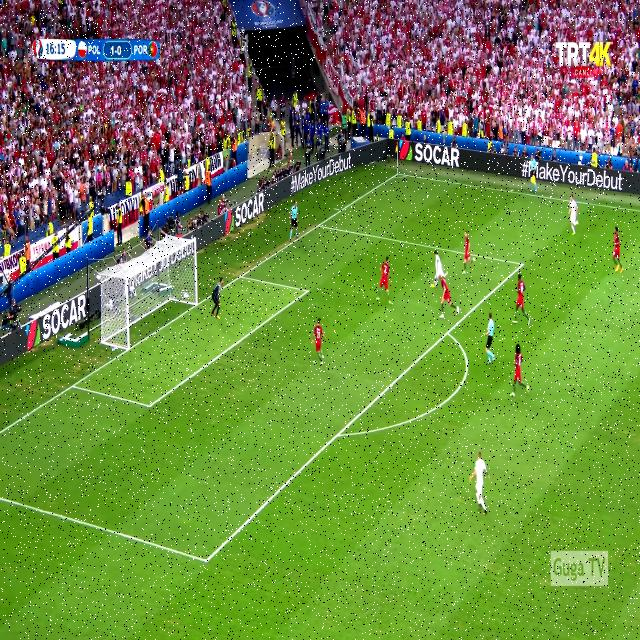Ball: (433, 280, 437, 286)
GoalKeeper: (211, 277, 224, 318)
TEAM 1: (471, 451, 490, 515), (432, 248, 449, 287), (568, 194, 580, 236)
TEAM 2: (439, 272, 461, 325), (462, 227, 477, 282), (512, 346, 526, 400), (515, 275, 530, 324), (378, 257, 392, 306), (313, 319, 326, 365), (613, 226, 623, 274)
